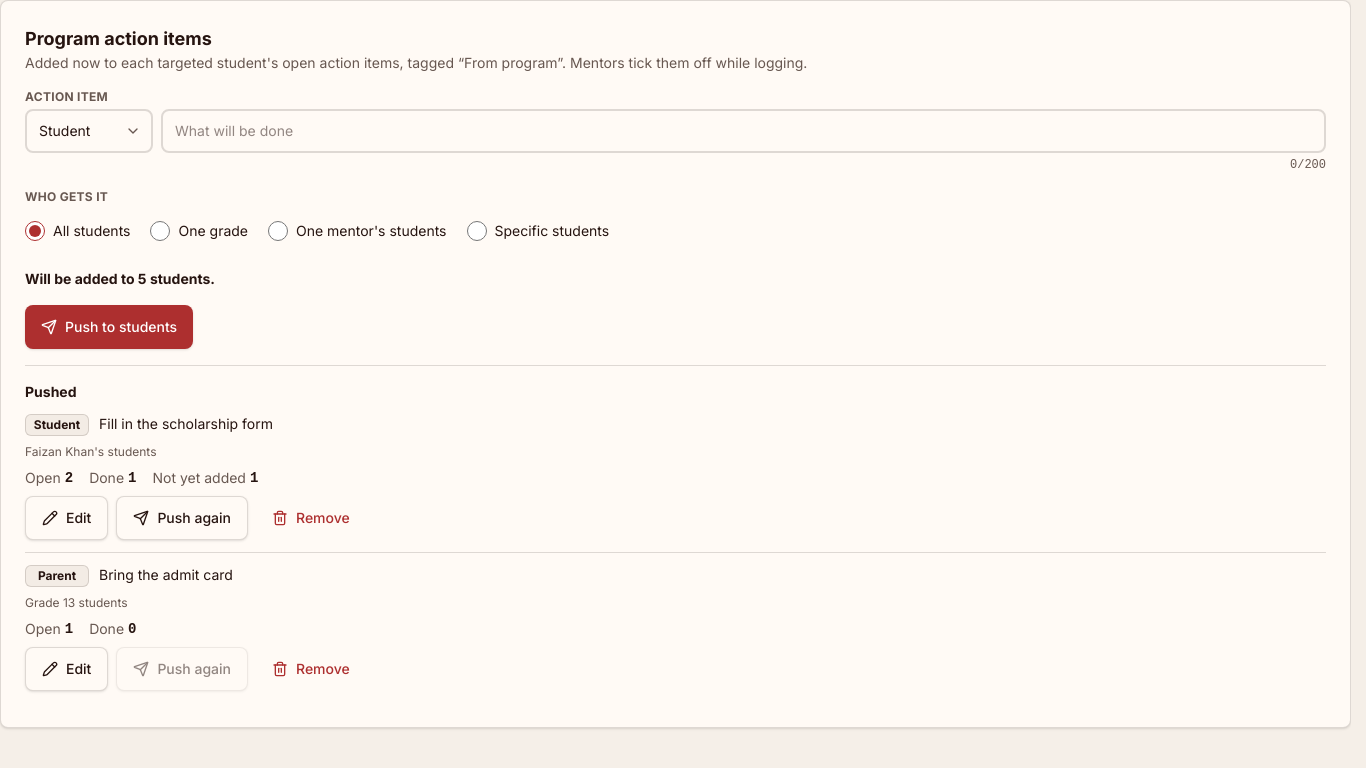
Test: CommonActionItemsManager — pushed items › pushes again after confirming how many it adds
Click the button with aria-label "Push again: Fill in the scholarship form" at {"x": 182, "y": 518}, box left=116, top=496, right=248, bottom=540
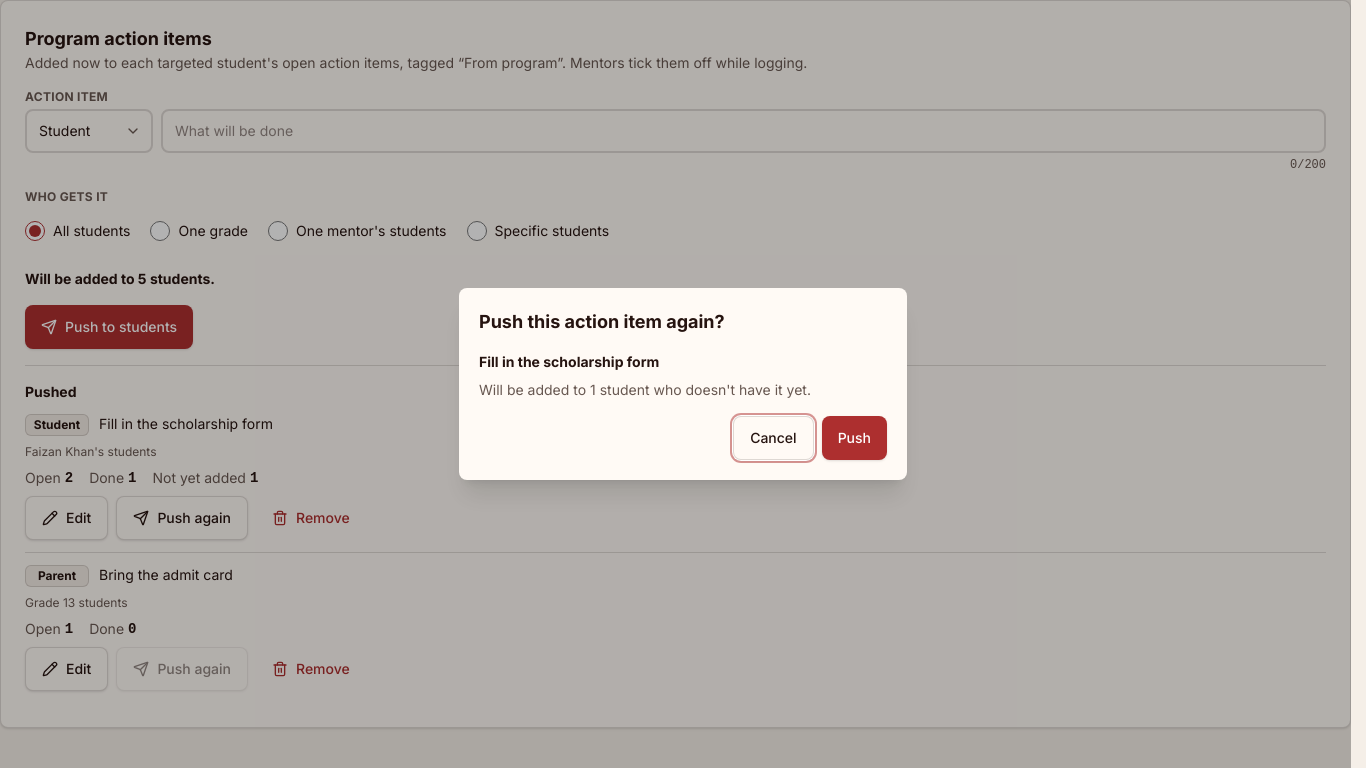
Expected: the dialog "Push this action item again?" shows "Will be added to 1 student who doesn't have it yet."
Click the button "Push" at {"x": 854, "y": 438}, box left=822, top=416, right=887, bottom=460
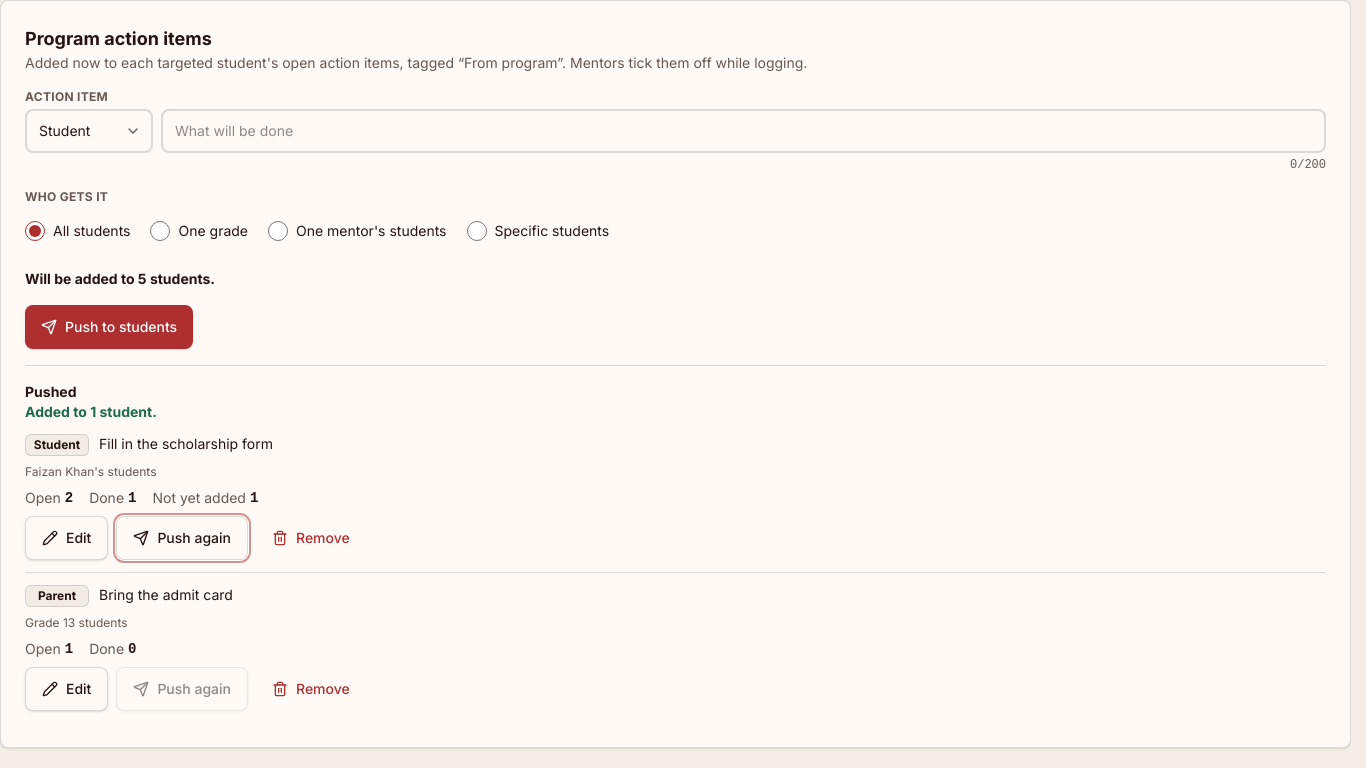
Expected: the dialog is gone
Expected: the message reads "Added to 1 student.", left=25, top=403, right=157, bottom=420
